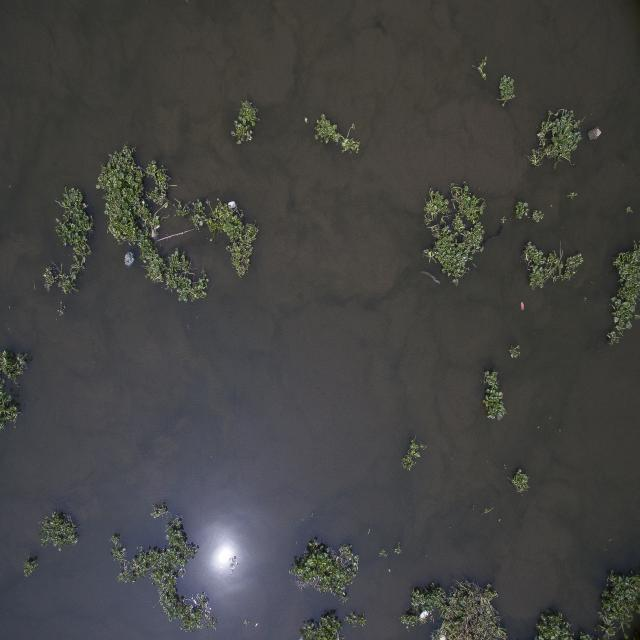Plastic: (587, 125, 603, 141), (150, 222, 162, 240), (124, 250, 135, 268), (228, 200, 235, 210), (521, 301, 524, 310)
